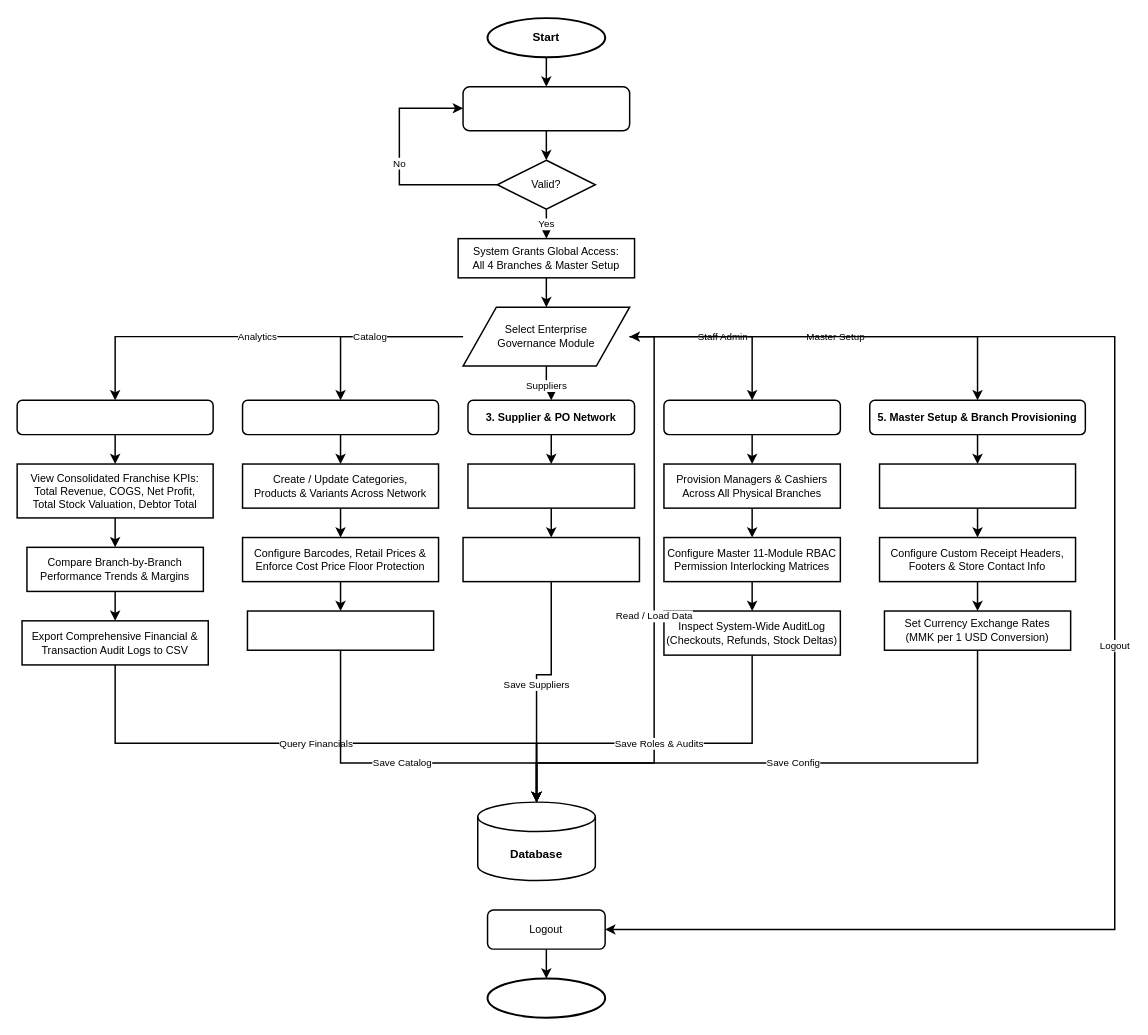
The diagram is 1148 pixels wide and 1035 high, and some of its shapes have lost their labels. The centre of each missing label's shape, as x and y in pixels:
1. Executive Analytics & Reports: pixel 114 417
2. Master Catalog & Pricing Rules: pixel 340 417
4. Enterprise Staff Governance: pixel 752 417
Audit Moving Average Cost (MAC) Calculations Across Store Shipments: pixel 551 559
End: pixel 546 997
Enterprise Owner Login (Master Credentials): pixel 546 108
Manage Registered Suppliers & Procurement Contacts: pixel 551 485
Provision New Store Branches, Set Addresses & Active Status: pixel 977 485
Set Franchise-Wide Low Stock Alert Warning Thresholds: pixel 340 630
